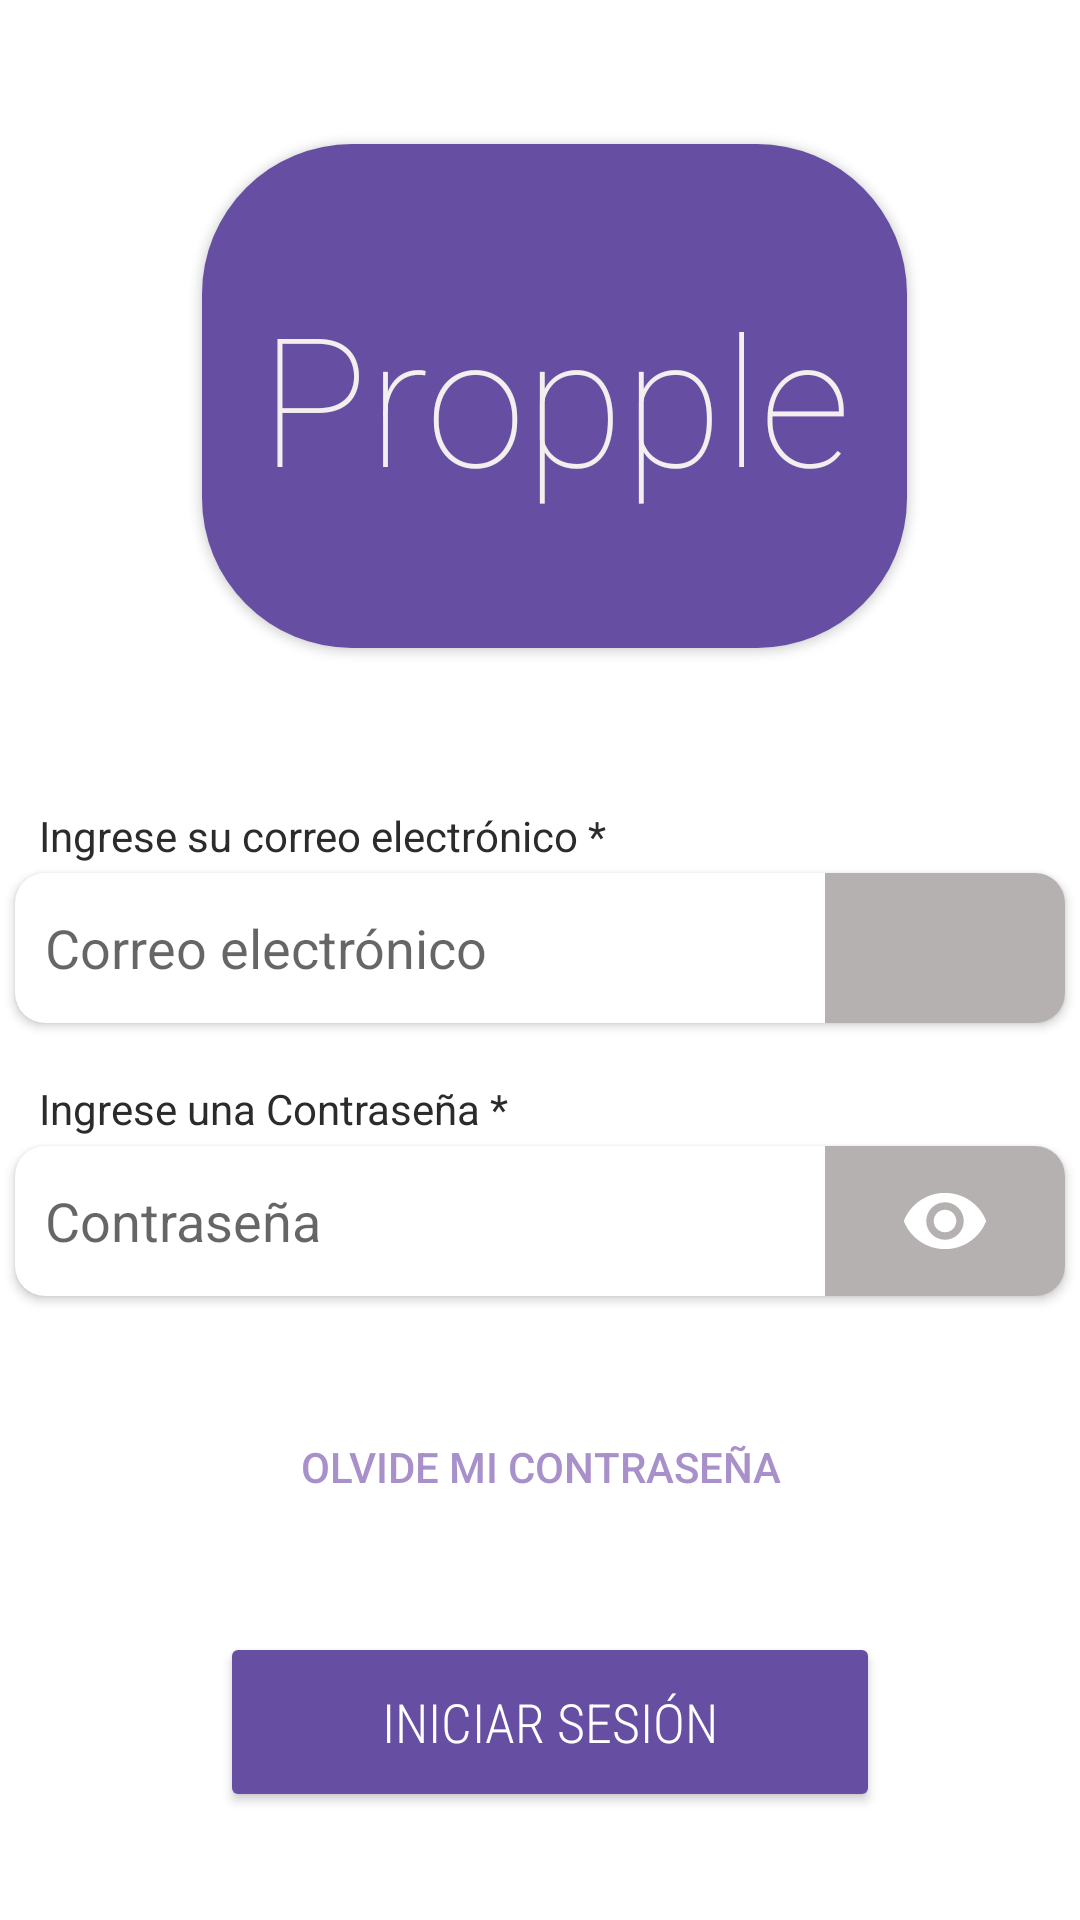

Screen size 1080px×1920px. Icon name, then its box in pixels as region(x1, y1, x2, y2):
remove eye: region(825, 1146, 1065, 1296)
